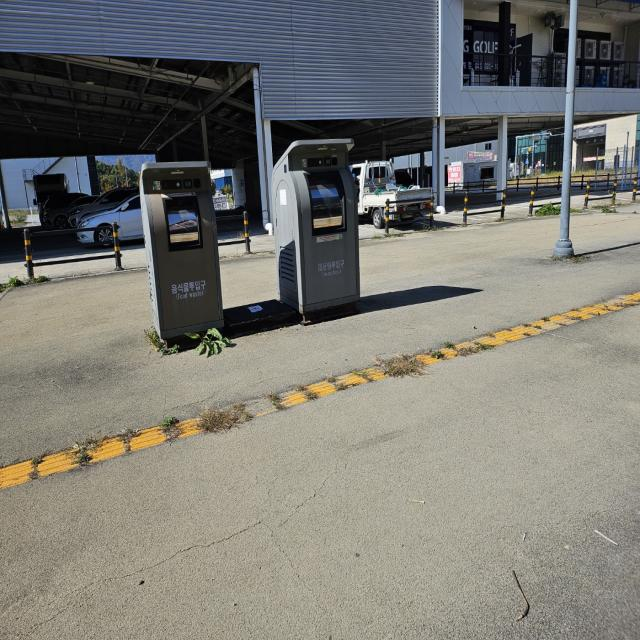CleanNet: (273, 135, 362, 326), (136, 157, 225, 342)
